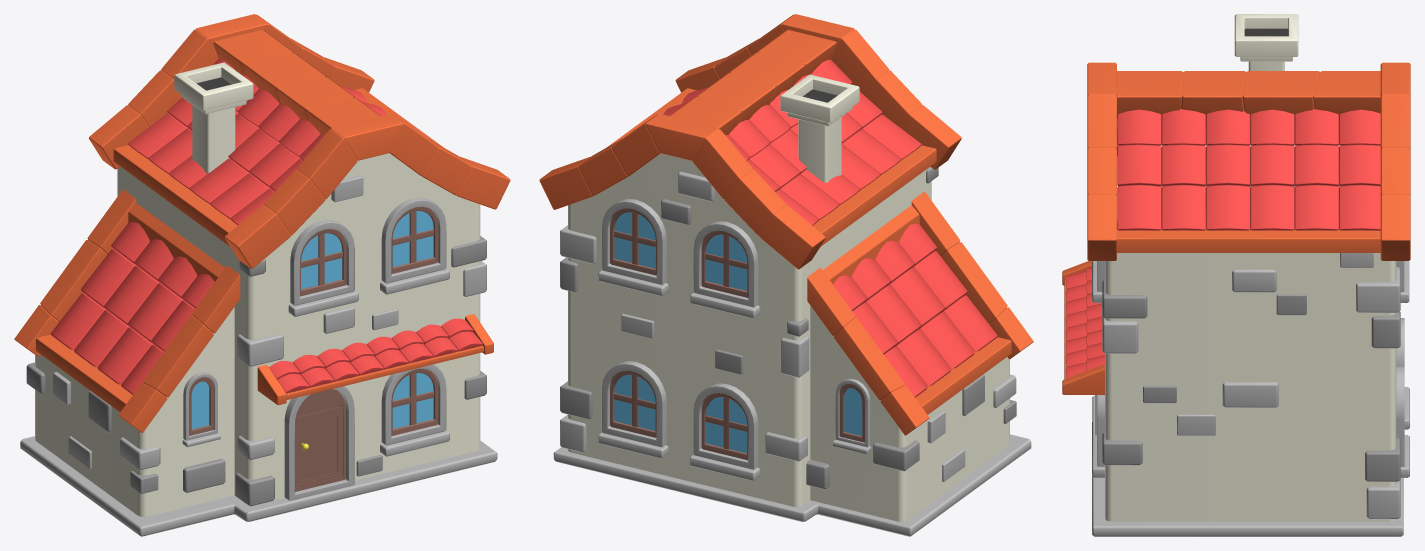
File: Town_7_House_1.glb
3 renders of one model, left to right at view 1: azimuth 30°, elevation 25°; view 2: azimuth 150°, elevation 25°; view 3: azimuth 270°, elevation 25°, orthographic. The views are drawn at different scales.
Parts seen in each view (by area): view 1: Town_7_House_1; view 2: Town_7_House_1; view 3: Town_7_House_1.
Part boxes in pixels (box(x1,y1,x2,y2)): Town_7_House_1: box(14, 14, 510, 536); Town_7_House_1: box(539, 14, 1033, 536); Town_7_House_1: box(1062, 14, 1410, 536).
Size of the model in its own units: 8.22 by 8.12 by 6.34.
1 material, 1 textured.
